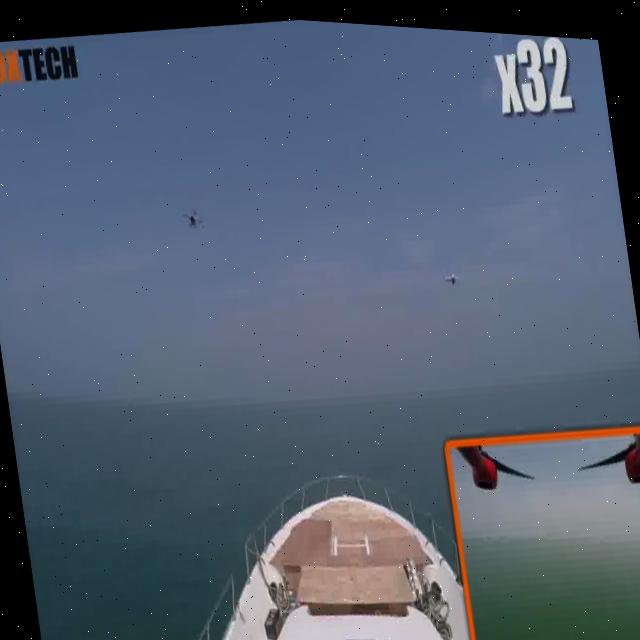drone: (175, 191, 208, 235), (435, 250, 467, 287)
